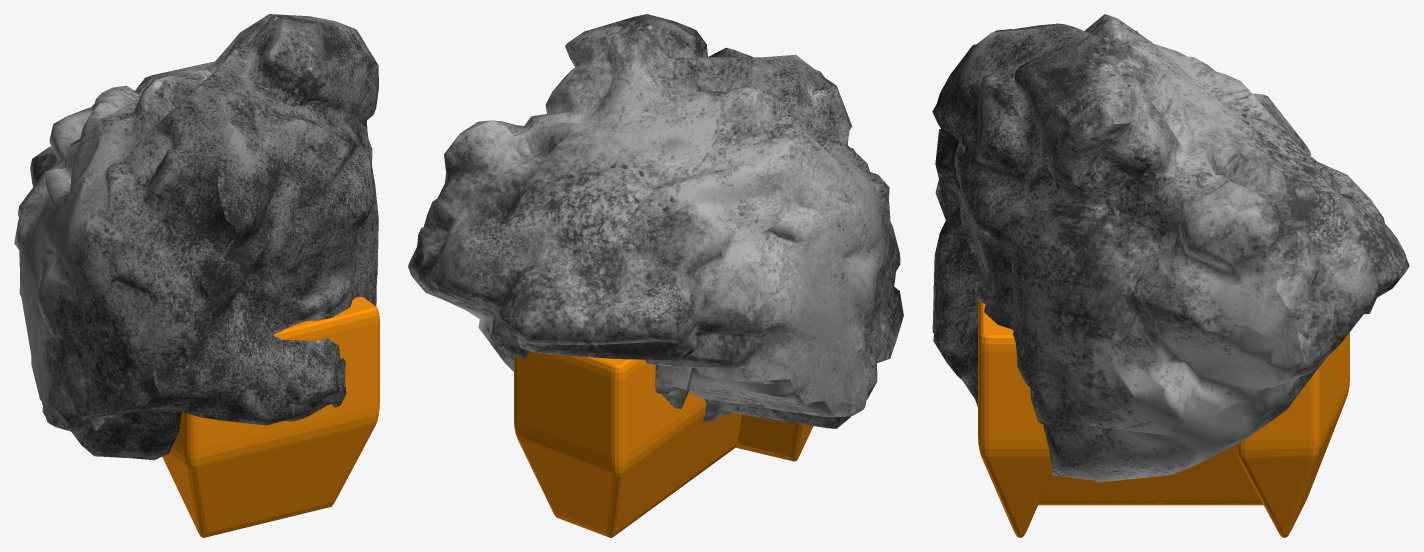
The model's file is astn1.fbx.
The picture shows the model from 3 angles, left to right: view 1: azimuth 30°, elevation 25°; view 2: azimuth 150°, elevation 25°; view 3: azimuth 270°, elevation 25°; orthographic projection. The views are drawn at different scales.
Visible parts, largest first — view 1: node_id29, node_id32.001; view 2: node_id29, node_id32.001; view 3: node_id29, node_id32.001.
Part boxes in pixels (<box>): node_id29: <box>14,14,378,460</box>; node_id32.001: <box>162,297,379,537</box>; node_id29: <box>408,14,903,428</box>; node_id32.001: <box>514,350,813,537</box>; node_id29: <box>932,14,1409,482</box>; node_id32.001: <box>978,299,1349,537</box>.
Size of the model in its own units: 51.2 by 57.04 by 49.72.
2 materials, 2 textured.
